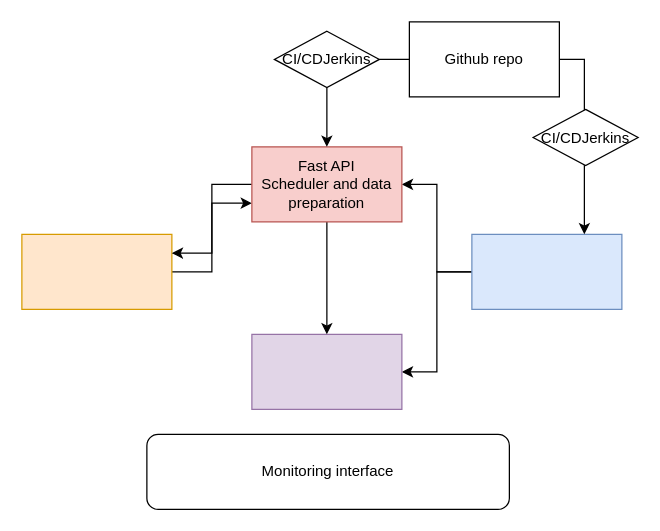
Some shapes in this 660 by 531 pixel diagram are drawn without their labels. Here are the shapes that lost their labels. From the top down, the centre of each, then its label:
At [96,271]: "web scrap server".
At [546,271]: "Dash WebApp".
At [326,371]: "PostgresSQL DB".
